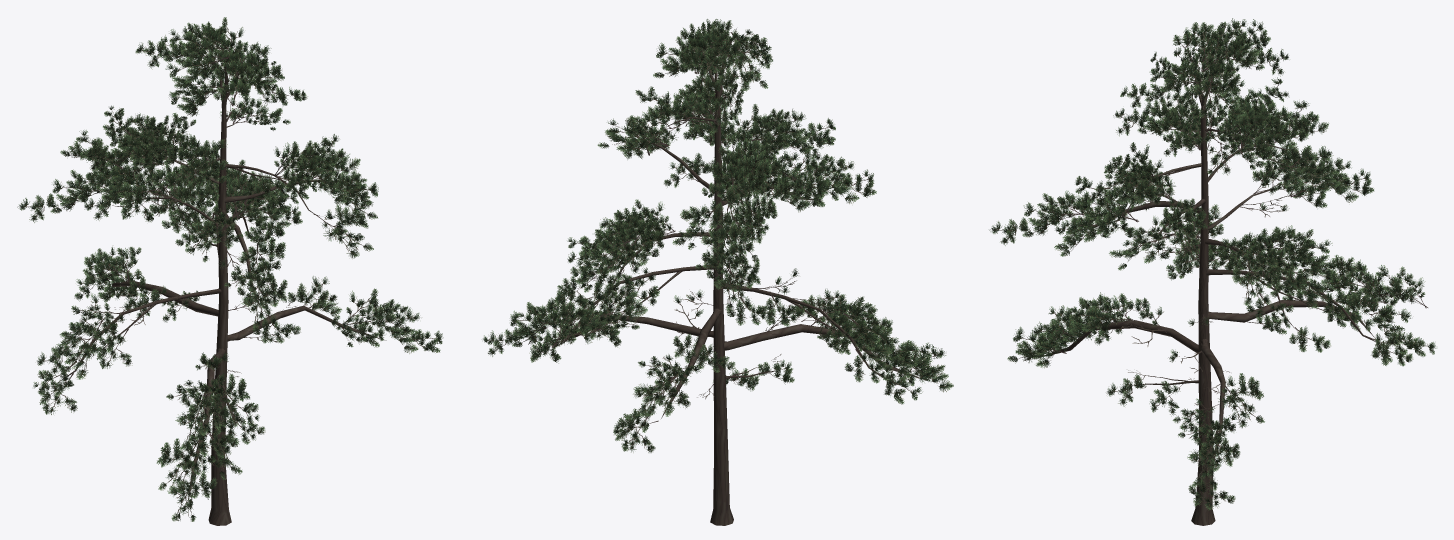
Rendered from newtrees3-transformed.glb.
3 renders of one model, left to right at view 1: azimuth 30°, elevation 25°; view 2: azimuth 150°, elevation 25°; view 3: azimuth 270°, elevation 25°, orthographic. The views are drawn at different scales.
Parts seen in each view (by area): view 1: Object_6, Object_4, Object_2, Object_3, Object_5; view 2: Object_6, Object_4, Object_2, Object_3, Object_5; view 3: Object_6, Object_2, Object_3, Object_4, Object_5.
Boxes of the visible parts, x1,y1,x2,y2 form: Object_6: (17, 17, 443, 521); Object_4: (36, 56, 376, 427); Object_2: (55, 56, 386, 525); Object_3: (69, 27, 440, 472); Object_5: (18, 100, 299, 520); Object_6: (483, 19, 953, 452); Object_4: (541, 36, 918, 448); Object_2: (543, 28, 922, 525); Object_3: (484, 24, 901, 452); Object_5: (531, 102, 946, 390); Object_6: (989, 18, 1436, 510); Object_2: (1034, 43, 1382, 525); Object_3: (1041, 24, 1434, 507); Object_4: (990, 52, 1427, 416); Object_5: (1013, 107, 1408, 367).
Bounding box in the file's own units: 335 × 377 × 311.
2 materials, 2 textured.
